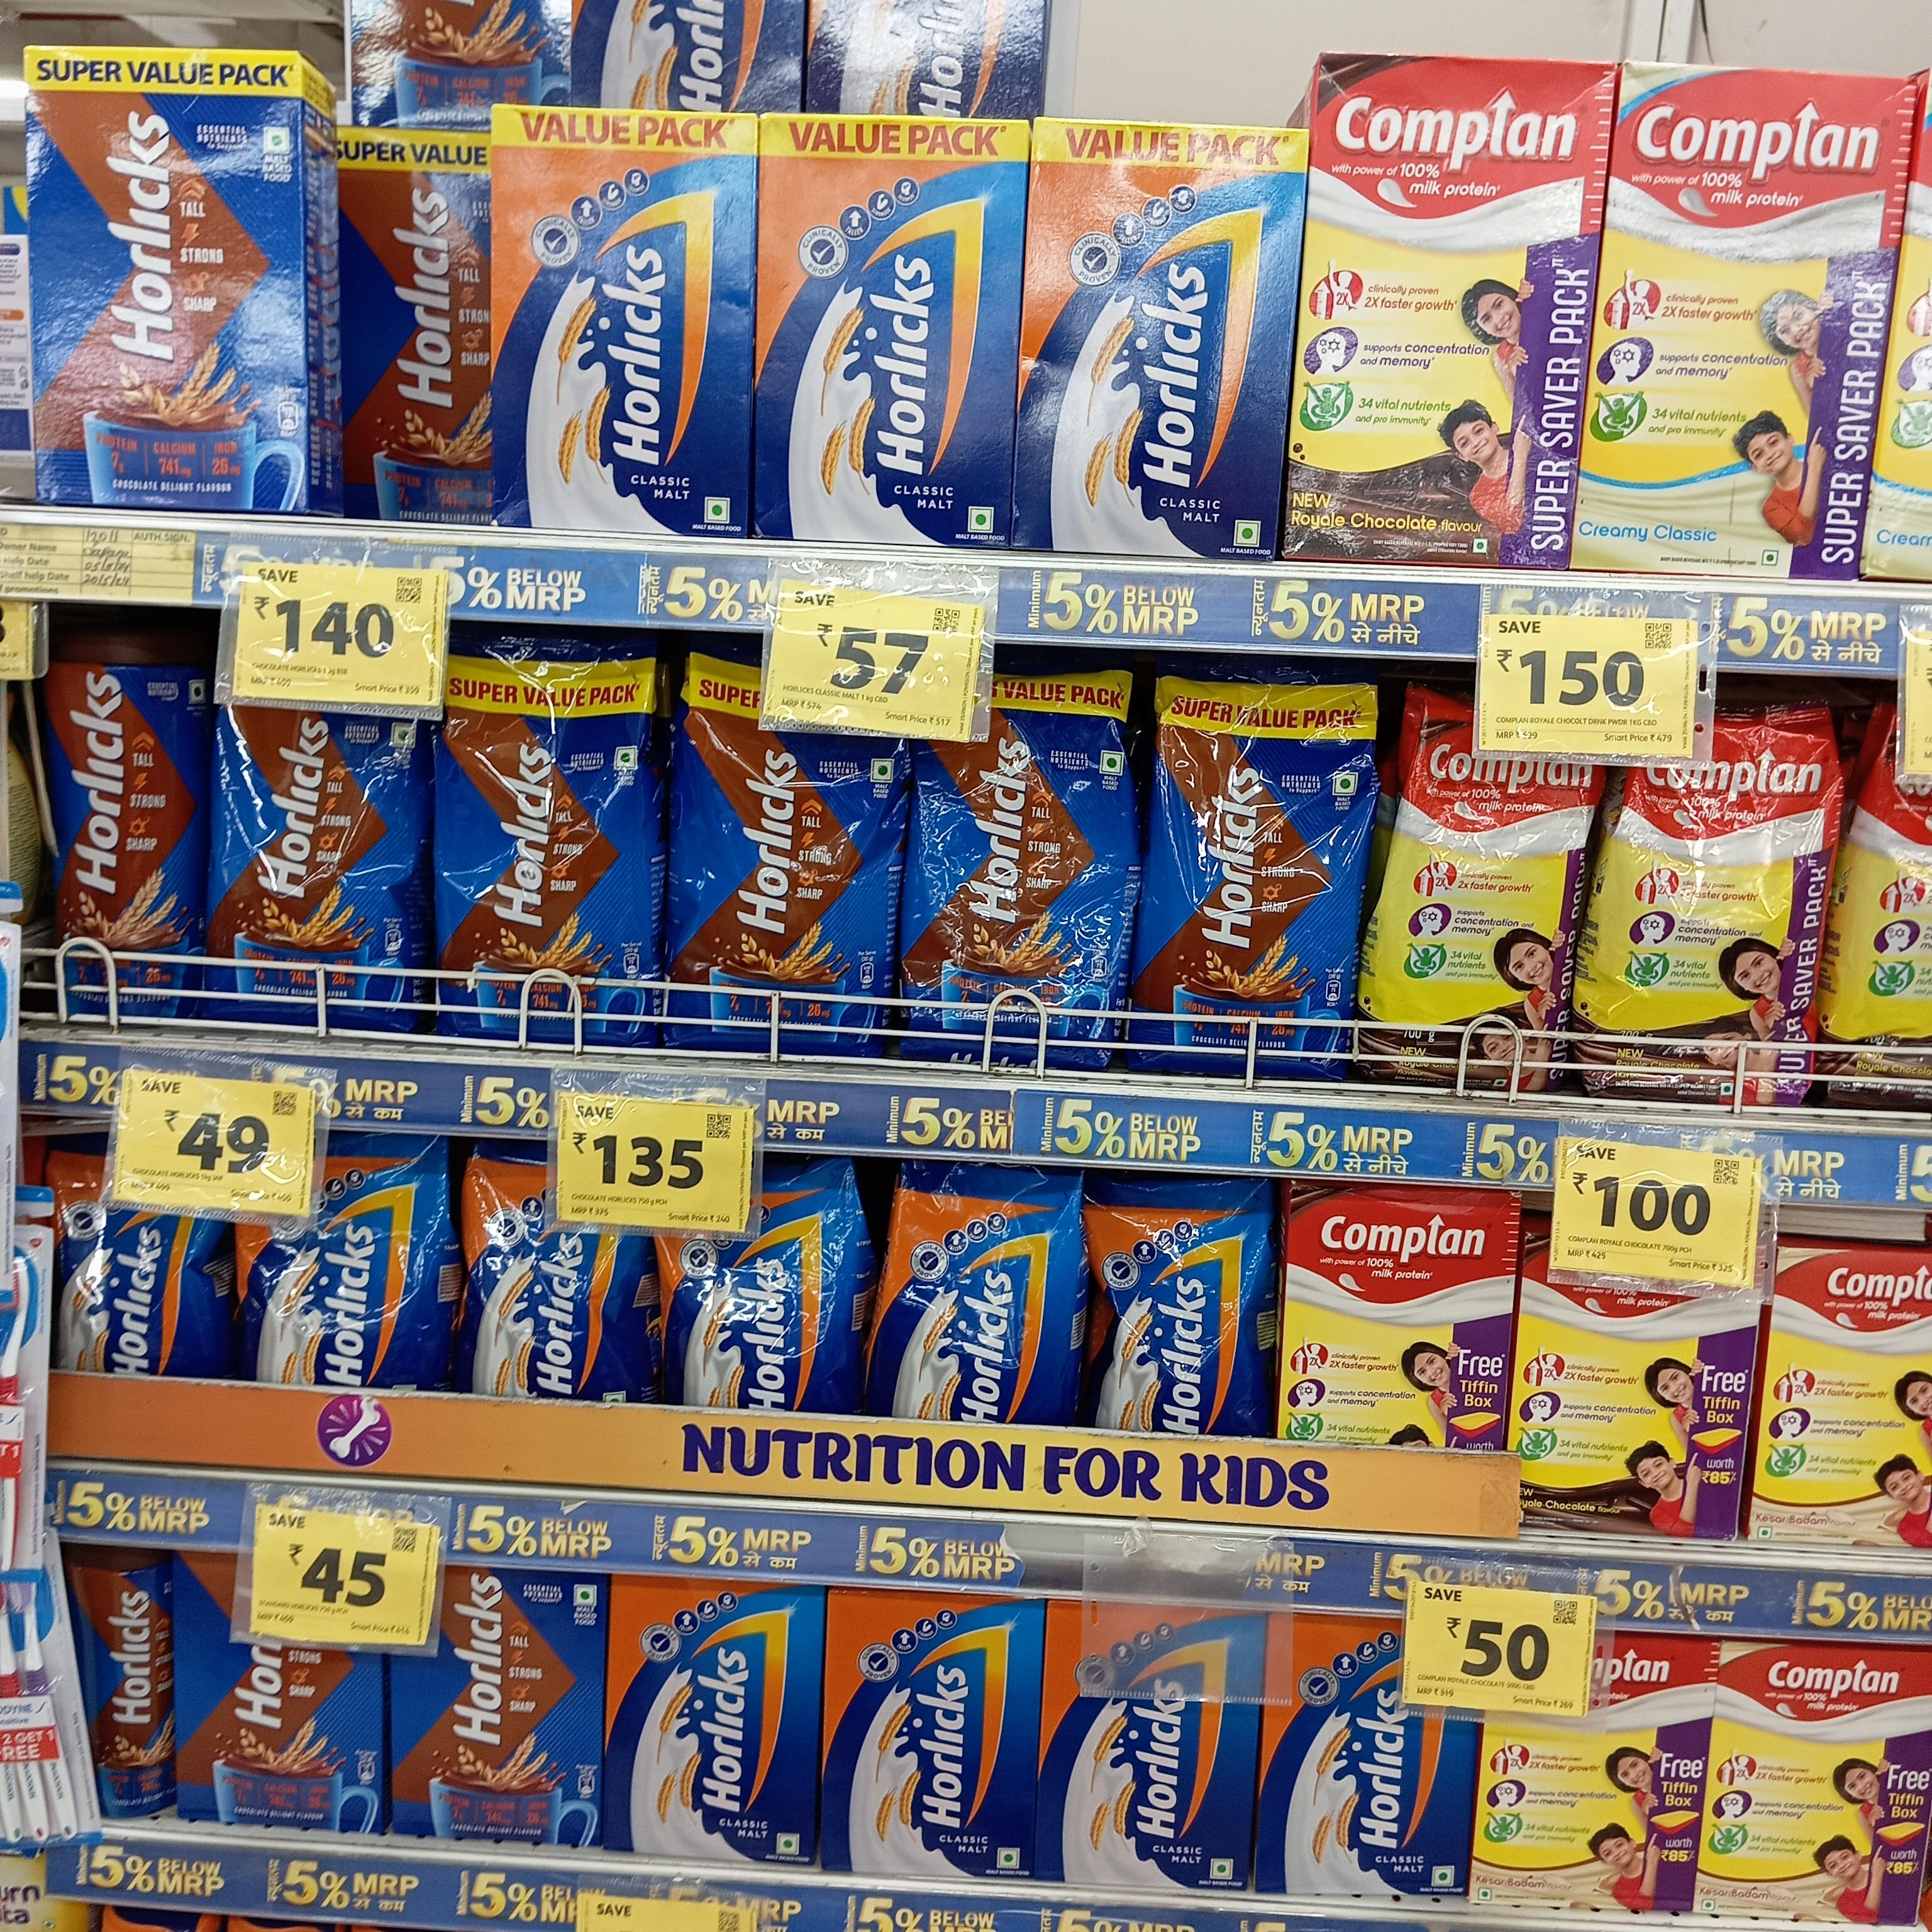COMPLAN_CHOCOLATE_1_KG_PACK: (1300, 50, 1575, 561)
COMPLAN_CHOCOLATE_500_GMS_PACK: (1522, 1283, 1750, 1555), (1292, 1191, 1507, 1454)
COMPLAN_KESAR_BADAM_500_GMS_PACK: (1702, 1652, 1932, 1932), (1483, 1644, 1704, 1914), (1759, 1251, 1932, 1564)
COMPLAN_RC_POUCH_700_GMS_12: (1603, 715, 1831, 1106), (1384, 725, 1583, 1097)
HORLICK_CHOCOLATE_1_KG_JAR: (34, 612, 184, 1026)
HORLICK_CHOCOLATE_1_KG_PACK: (28, 42, 295, 517), (331, 127, 488, 520)
HORLICK_CHOCOLATE_500_G_JAR: (65, 1539, 168, 1817)
HORLICK_CHOCOLATE_500_G_PACK: (395, 1571, 598, 1836), (180, 1560, 372, 1829)
HORLICK_CHOCOLATE_750_G_POUCH: (444, 623, 662, 1051), (918, 681, 1141, 1060), (667, 678, 892, 1046), (1161, 663, 1364, 1069), (218, 685, 430, 1044)
HORLICK_CLASSIC_MALT_500_G_PACK: (1024, 119, 1283, 550), (497, 106, 745, 525), (763, 108, 998, 543), (1046, 1603, 1256, 1882), (614, 1580, 817, 1859), (828, 1598, 1035, 1870), (1274, 1619, 1470, 1890)
HORLICK_CLASSIC_MALT_750_G_POUCH: (885, 1166, 1069, 1415), (248, 1136, 435, 1380), (658, 1178, 847, 1408), (1099, 1185, 1272, 1433), (460, 1168, 630, 1394)
